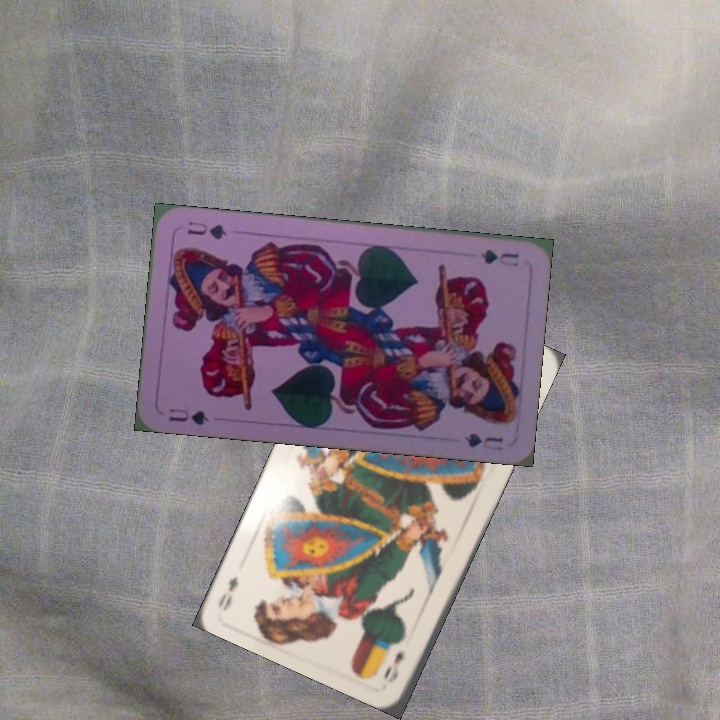EO: (380, 647, 407, 686)
GU: (165, 404, 211, 428), (477, 245, 522, 269)
